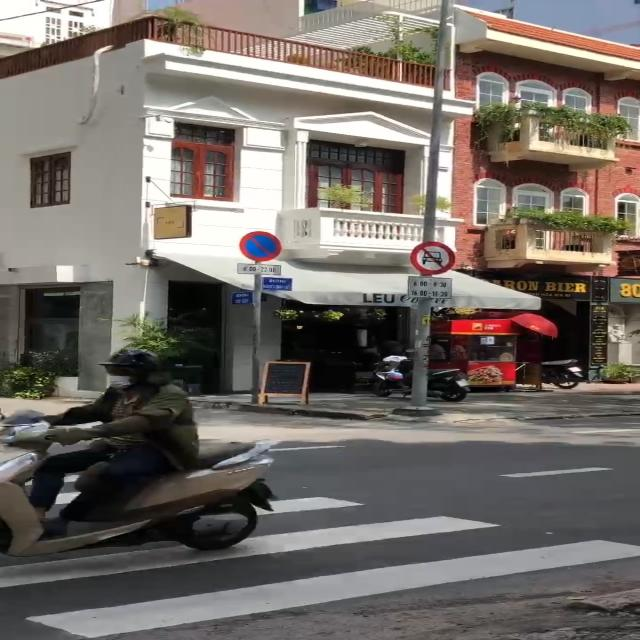Bien bao cam do xe: (240, 230, 287, 264)
Bien bao cam xe oto: (408, 239, 458, 275)
